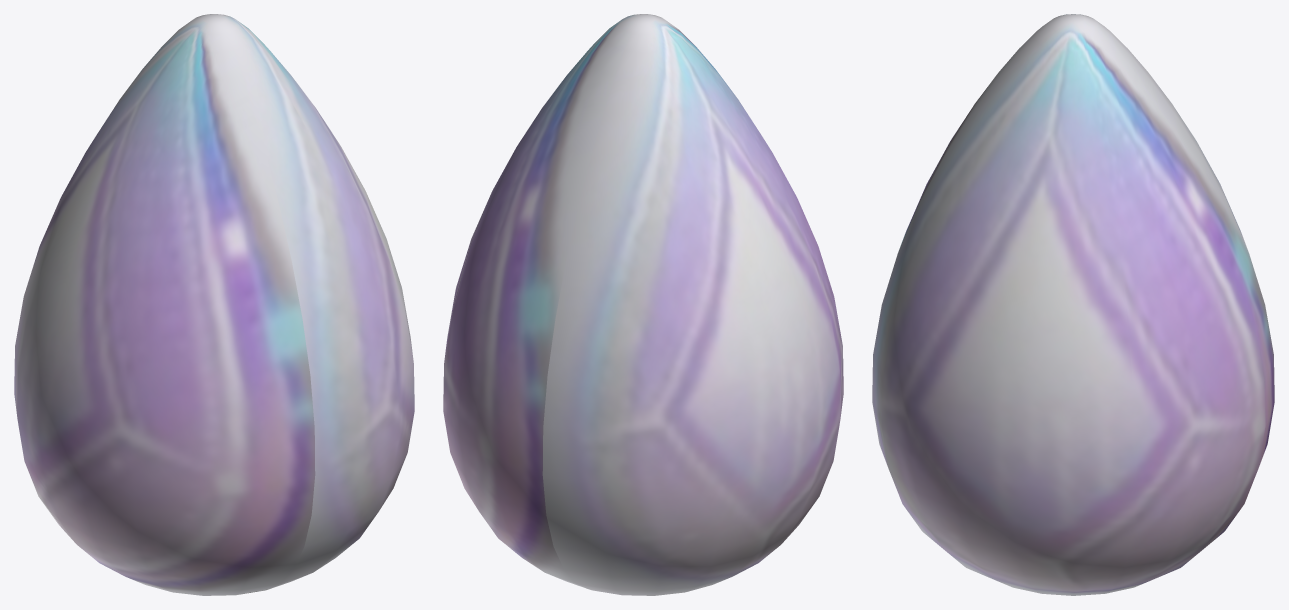
File: tears.obj
3 views of the same model, side by side, from view 1: azimuth 30°, elevation 25°; view 2: azimuth 150°, elevation 25°; view 3: azimuth 270°, elevation 25° (orthographic).
Visible parts, largest first — view 1: Object, Object002, pSphere1; view 2: Object, Object002, pSphere1; view 3: Object002, Object.
Part boxes in pixels (left/top/right/bottom): Object: left=14, top=17, right=315, bottom=595; Object002: left=210, top=14, right=414, bottom=589; pSphere1: left=193, top=14, right=233, bottom=51; Object: left=542, top=17, right=843, bottom=595; Object002: left=443, top=14, right=647, bottom=589; pSphere1: left=624, top=14, right=664, bottom=51; Object002: left=872, top=18, right=1274, bottom=595; Object: left=898, top=14, right=1248, bottom=251.
Size of the model in its own units: 1.84 by 2.8 by 1.84.
1 material, 1 textured.
